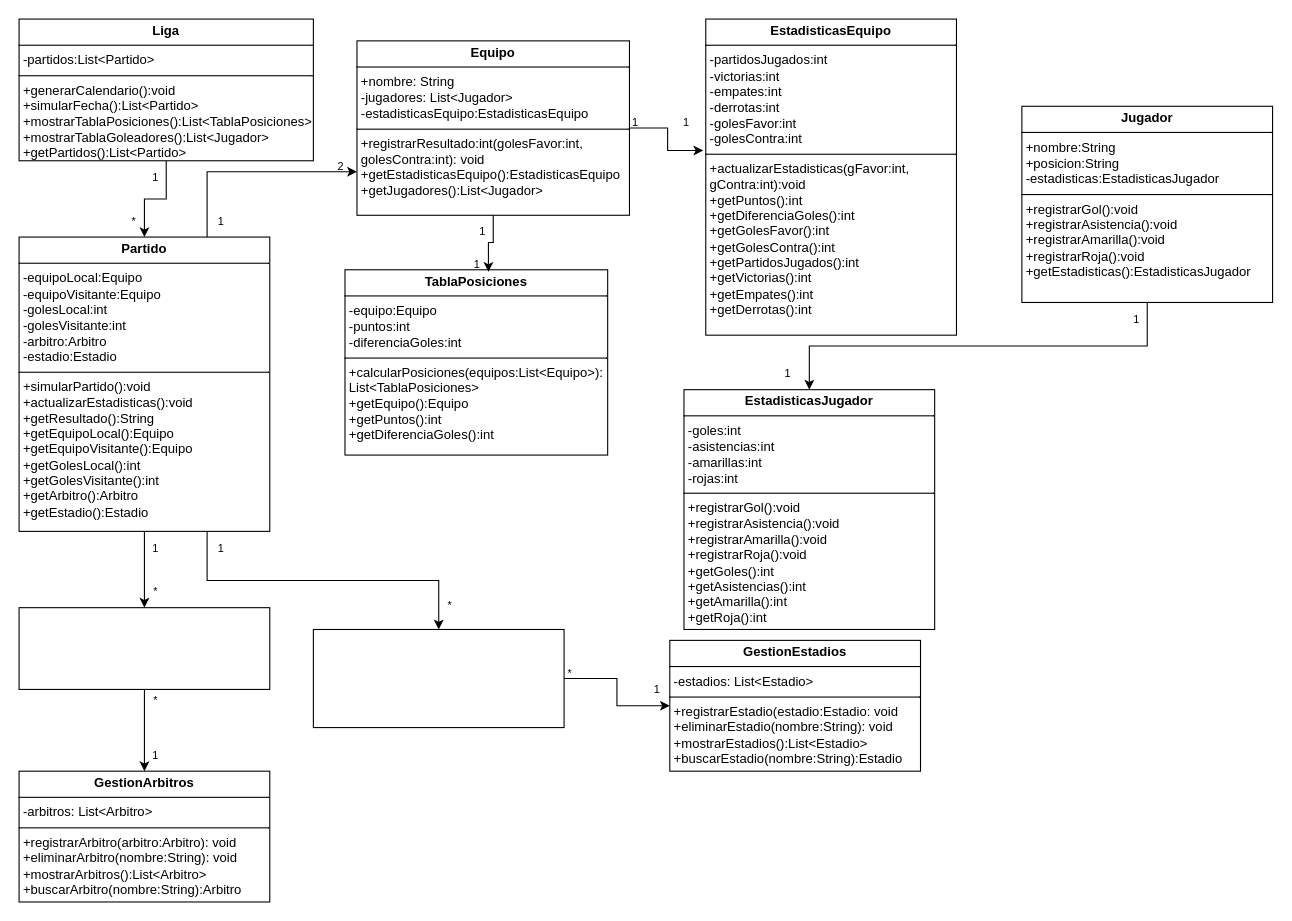
This 1292x921 diagram has some shape labels left out. The centre of each missing label's shape, as x and y in pixels:
Arbitro +nombre: String: point 144,648
Estadio +nombre: String +ciudad: String +capacidad: int: point 438,678
